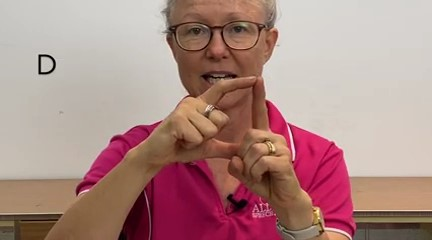D: (153, 70, 305, 210)
